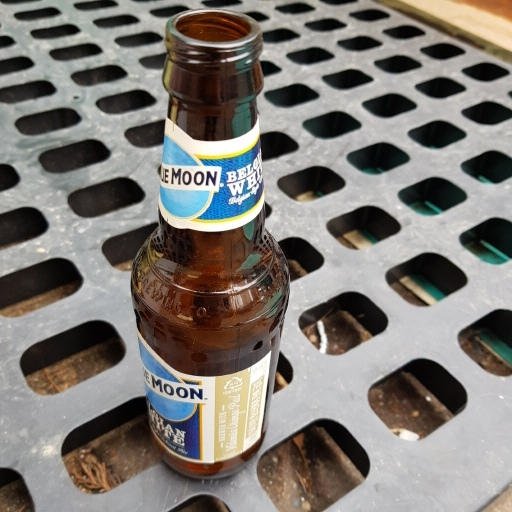Glass_1: (131, 11, 290, 485)
